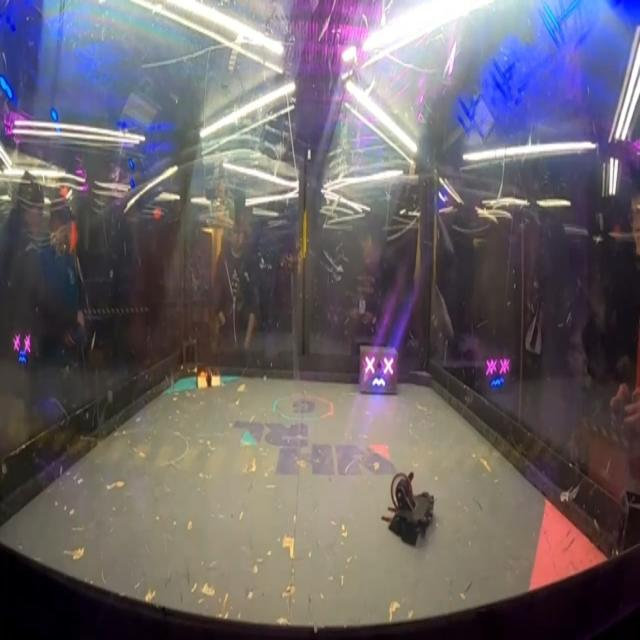brick: (357, 340, 401, 401)
